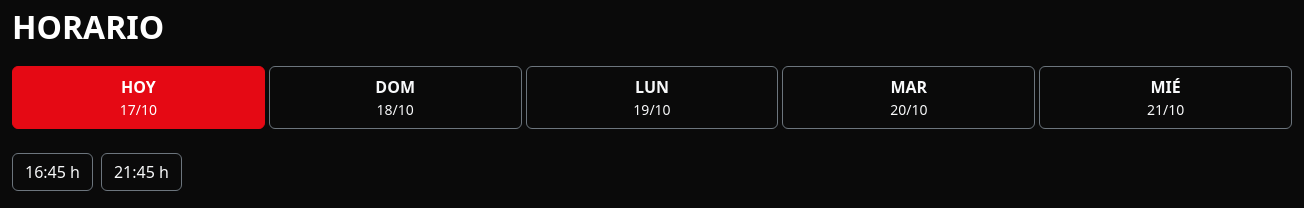
Scenario: DetalleHorario › cambia los horarios al elegir otro día
Click the button "LUN 19/10" at coordinates (652, 98), box 526,66 -> 778,129
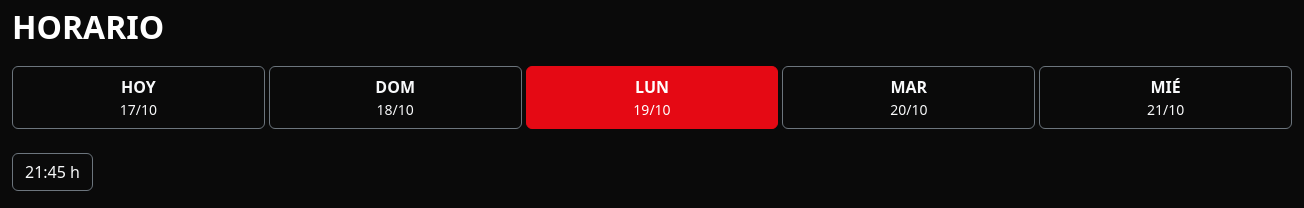
Expected: the link "21:45 h" is shown, 12,153 -> 93,191
Expected: the link "16:45 h" is gone
